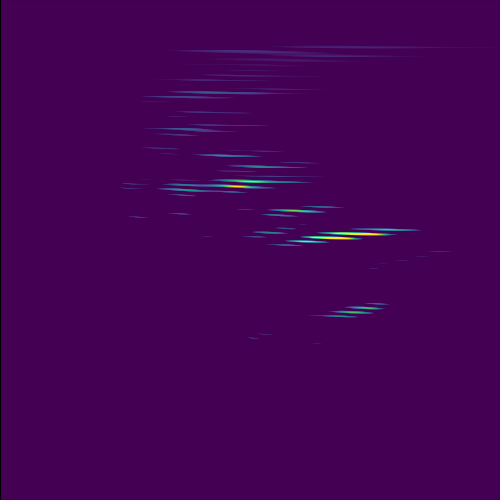semblance: (280, 223, 419, 249), (195, 176, 291, 195)
